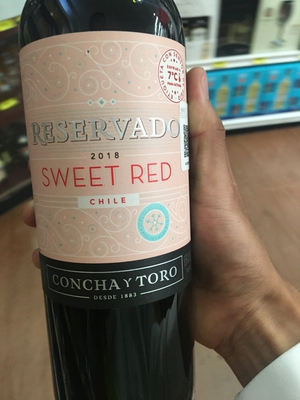reservado sweet red: (20, 6, 196, 400)
